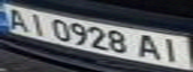0: (48, 16, 72, 43)
2: (87, 24, 109, 52)
8: (106, 27, 130, 55)
9: (66, 20, 90, 47)
A: (133, 32, 163, 62), (3, 6, 30, 33)
I: (157, 36, 187, 64), (24, 10, 51, 37)
